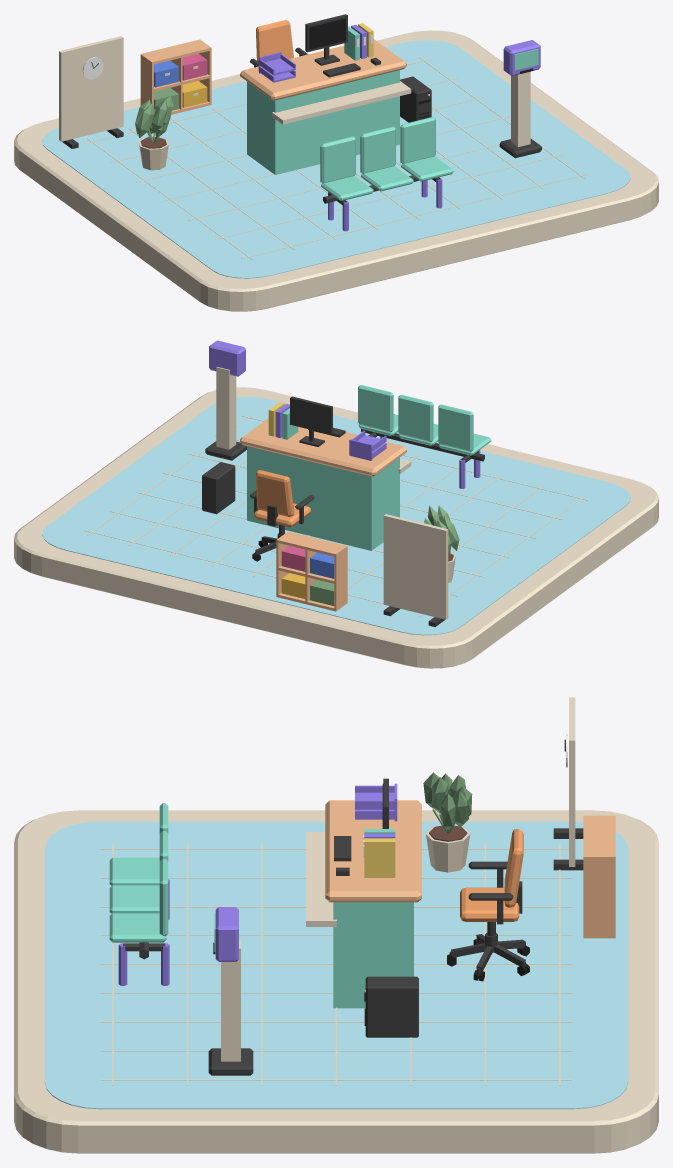
3 renders of one model, top to bottom at view 1: azimuth 30°, elevation 25°; view 2: azimuth 150°, elevation 25°; view 3: azimuth 270°, elevation 25°, orthographic. The views are drawn at different scales.
Parts seen in each view (by area): view 1: COM-02 Floor Surface, COM-01 Rounded Base Direct, Counter body, Panel, Countertop, Pot, Visitor shelf, Frame, Back.001, Back.002, Back, Pedestal (+14 smaller); view 2: COM-02 Floor Surface, COM-01 Rounded Base Direct, Counter body, Panel, Countertop, COM-04_Chair_blender_direct, Pedestal, Tower, Frame, Back, Back.001, Back.002 (+9 smaller); view 3: COM-02 Floor Surface, COM-01 Rounded Base Direct, Counter body, Countertop, COM-04_Chair_blender_direct, Pot, Tower, Cubbies divider.002, Visitor shelf, Pedestal, Seat.002, Seat (+10 smaller).
Boxes of the visible parts, x1,y1,x2,y2 form: COM-02 Floor Surface: [42, 40, 630, 278]; COM-01 Rounded Base Direct: [14, 30, 658, 311]; Counter body: [247, 70, 399, 174]; Panel: [59, 36, 123, 141]; Countertop: [240, 39, 406, 100]; Pot: [135, 95, 173, 170]; Visitor shelf: [272, 81, 411, 124]; Frame: [305, 14, 347, 65]; Back.001: [360, 126, 395, 173]; Back.002: [400, 117, 435, 163]; Back: [320, 136, 355, 183]; Pedestal: [511, 71, 530, 147]; COM-02 Floor Surface: [42, 397, 630, 635]; COM-01 Rounded Base Direct: [14, 387, 658, 668]; Counter body: [247, 446, 399, 550]; Panel: [383, 514, 448, 619]; Countertop: [240, 418, 406, 476]; COM-04_Chair_blender_direct: [250, 470, 314, 561]; Pedestal: [216, 367, 236, 449]; Tower: [202, 462, 235, 514]; Frame: [290, 396, 332, 446]; Back: [438, 404, 473, 451]; Back.001: [398, 394, 433, 441]; Back.002: [358, 385, 393, 432]; COM-02 Floor Surface: [44, 821, 628, 1109]; COM-01 Rounded Base Direct: [14, 810, 658, 1153]; Counter body: [333, 902, 413, 1008]; Countertop: [325, 800, 421, 902]; COM-04_Chair_blender_direct: [447, 829, 529, 981]; Pot: [423, 772, 472, 872]; Tower: [365, 976, 418, 1037]; Cubbies divider.002: [583, 857, 615, 938]; Visitor shelf: [306, 832, 336, 926]; Pedestal: [221, 939, 240, 1061]; Seat.002: [109, 913, 166, 942]; Seat: [109, 857, 159, 885].
Bounding box in the file's own units: 6 × 1.87 × 5.2.
Materials: 1 (1 with a texture image).
